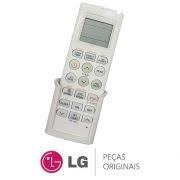remote control: (46, 3, 124, 145)
